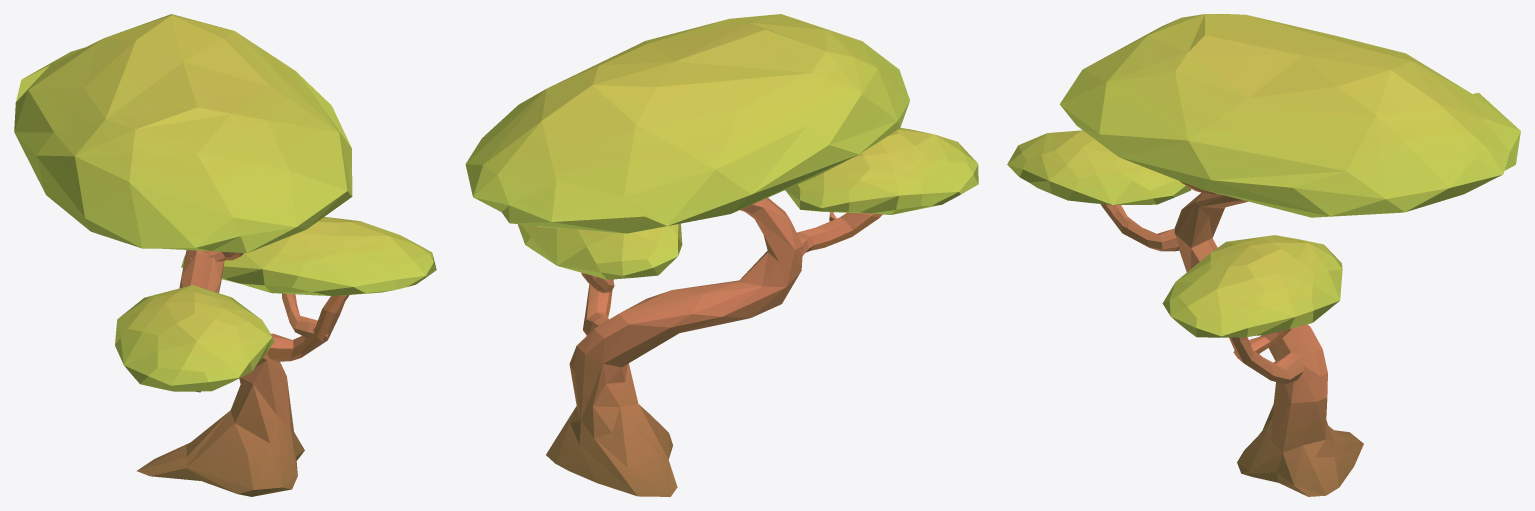
File: asia-tree.glb
3 views of the same model, side by side, from view 1: azimuth 30°, elevation 25°; view 2: azimuth 150°, elevation 25°; view 3: azimuth 270°, elevation 25° (orthographic). The views are drawn at different scales.
Parts seen in each view (by area): view 1: AsiaTree1; view 2: AsiaTree1; view 3: AsiaTree1.
Part boxes in pixels (x1,y1,x2,y2): AsiaTree1: (14, 14, 436, 496); AsiaTree1: (465, 14, 978, 496); AsiaTree1: (1007, 14, 1520, 496).
Bounding box in the file's own units: 7.99 × 8.6 × 10.21.
Materials: 1 (1 with a texture image).
